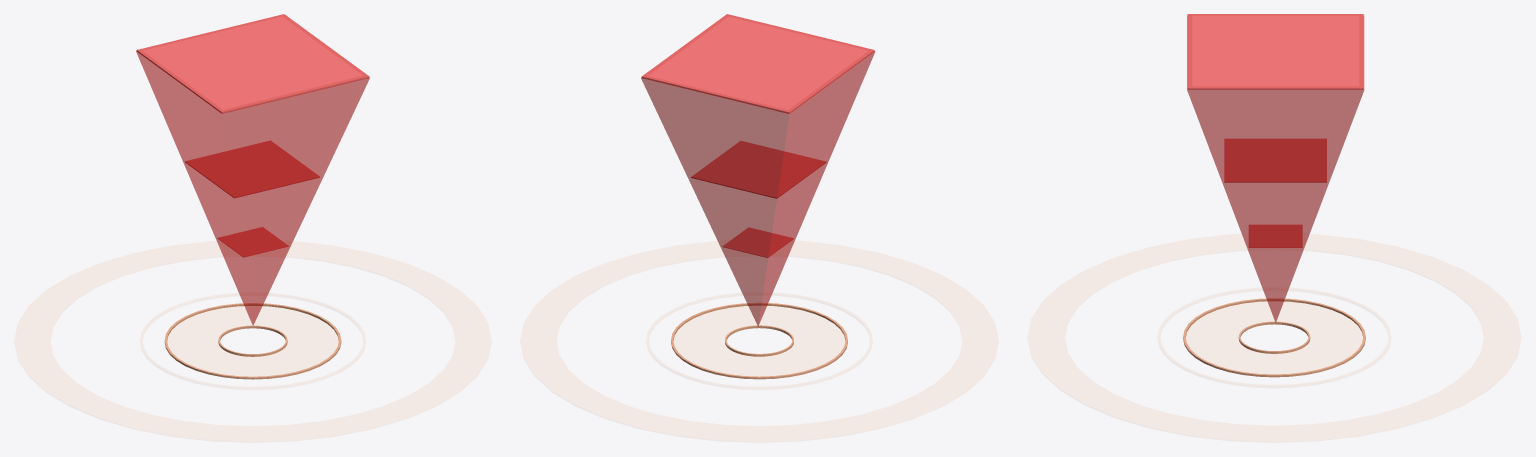
File: tufashijian.gltf
3 views of the same model, side by side, from view 1: azimuth 30°, elevation 25°; view 2: azimuth 150°, elevation 25°; view 3: azimuth 270°, elevation 25° (orthographic). The views are drawn at different scales.
Parts seen in each view (by area): view 1: Z_UP; view 2: Z_UP; view 3: Z_UP.
Boxes of the visible parts, left/top/right/bottom form: Z_UP: left=136, top=14, right=369, bottom=379; Z_UP: left=641, top=14, right=875, bottom=379; Z_UP: left=1183, top=14, right=1365, bottom=377.
Bounding box in the file's own units: 9.54 × 6.14 × 9.54.
